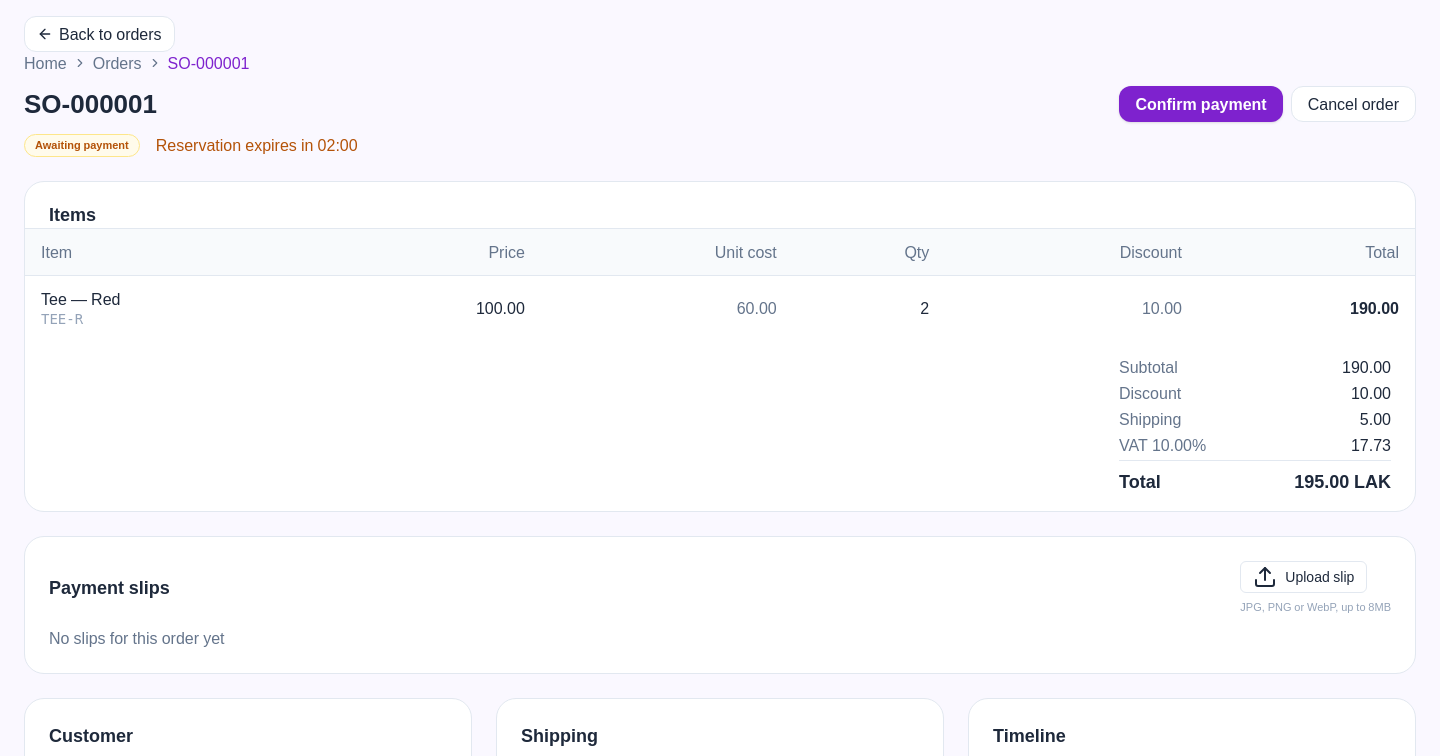
OrderDetail: ຍົກເລີກ › dialog ມີຊ່ອງເຫດຜົນ → POST /cancel { reason }; ສຳເລັດແລ້ວ dialog ປິດ
This screenshot has width=1440, height=756.
Click the button "Cancel order".
click(1353, 104)  # box x1=1291 y1=86 x2=1416 y2=122
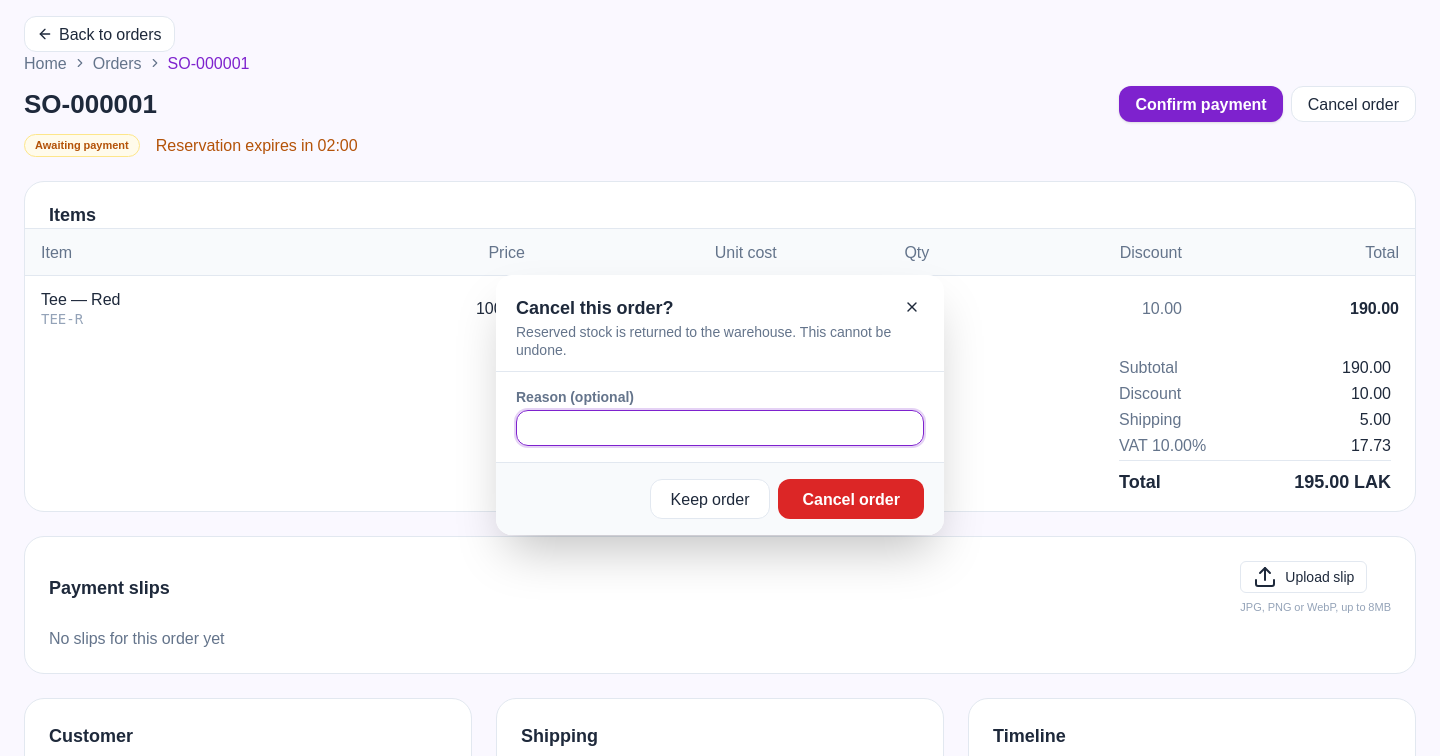
Type "customer changed mind" into the field labelled "Reason (optional)".
click(720, 428); type("customer changed mind")  # box x1=516 y1=410 x2=924 y2=446
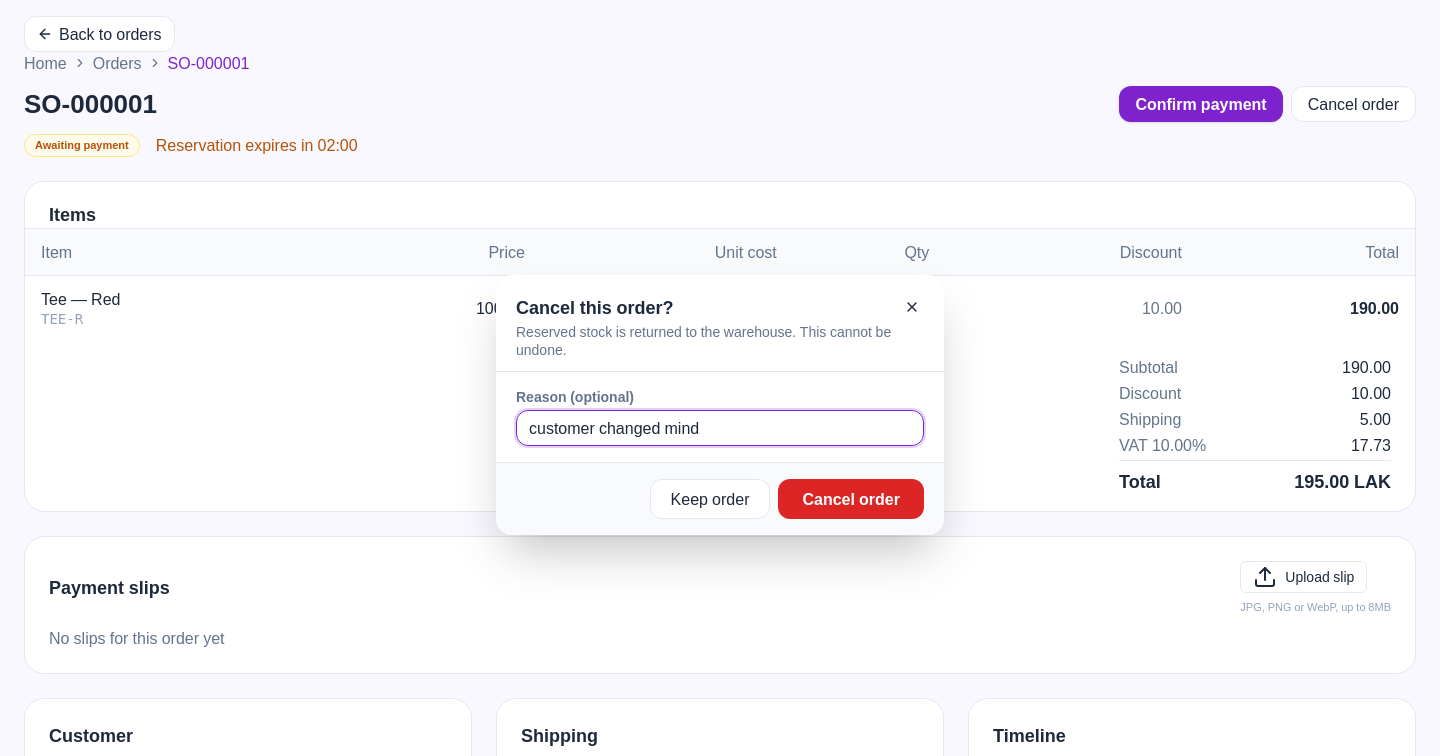
Click the button "Cancel order".
click(851, 499)  # box x1=778 y1=479 x2=924 y2=519
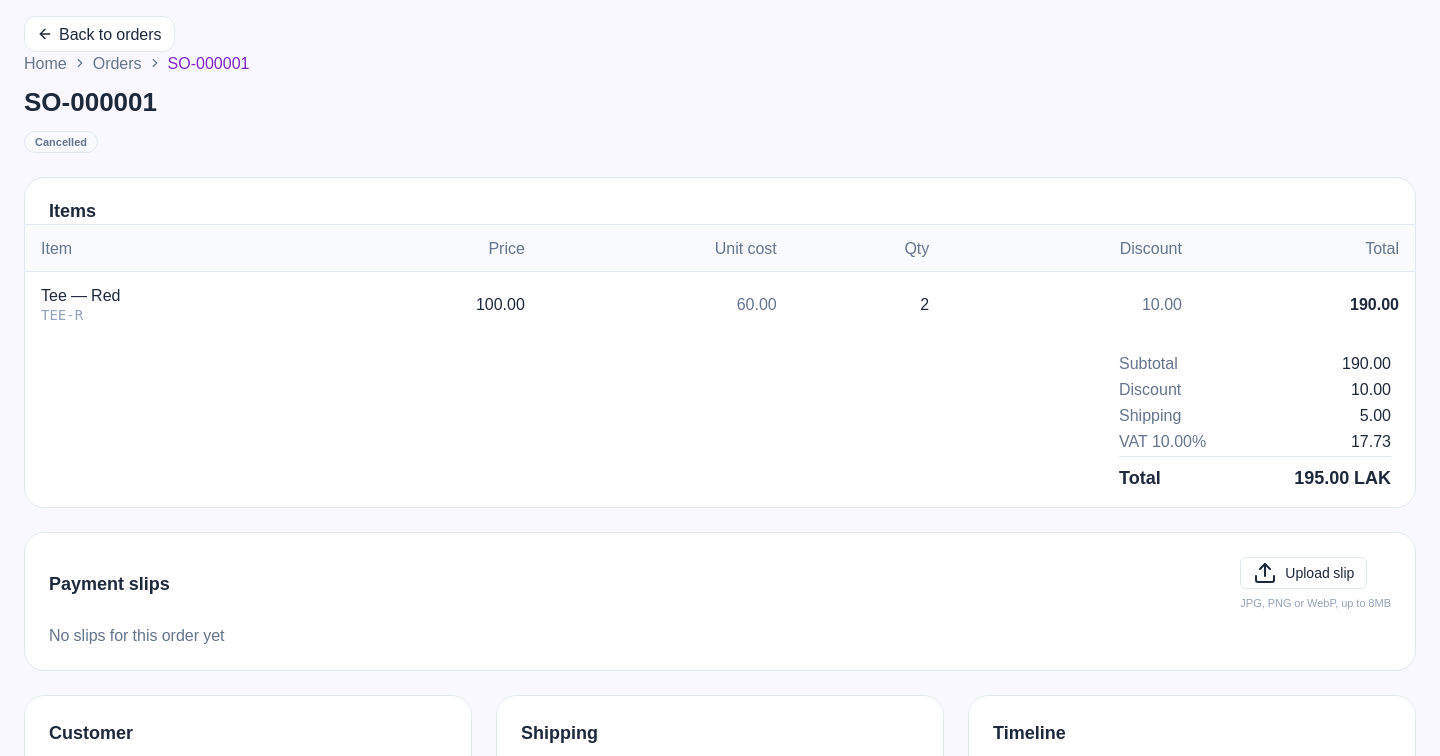
Now the dialog is gone
Now the text "Cancelled" is shown, box x1=24 y1=130 x2=98 y2=153
